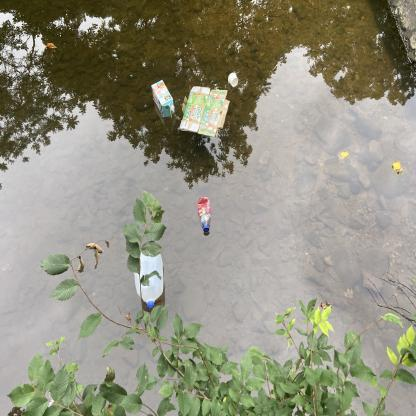trash: (174, 82, 232, 141), (132, 240, 170, 314), (150, 77, 176, 118), (194, 192, 216, 236), (224, 68, 240, 90)
